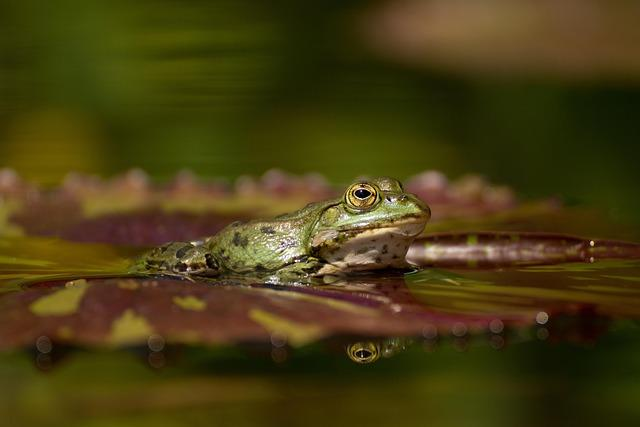Non_Gorille: (61, 58, 549, 368)
